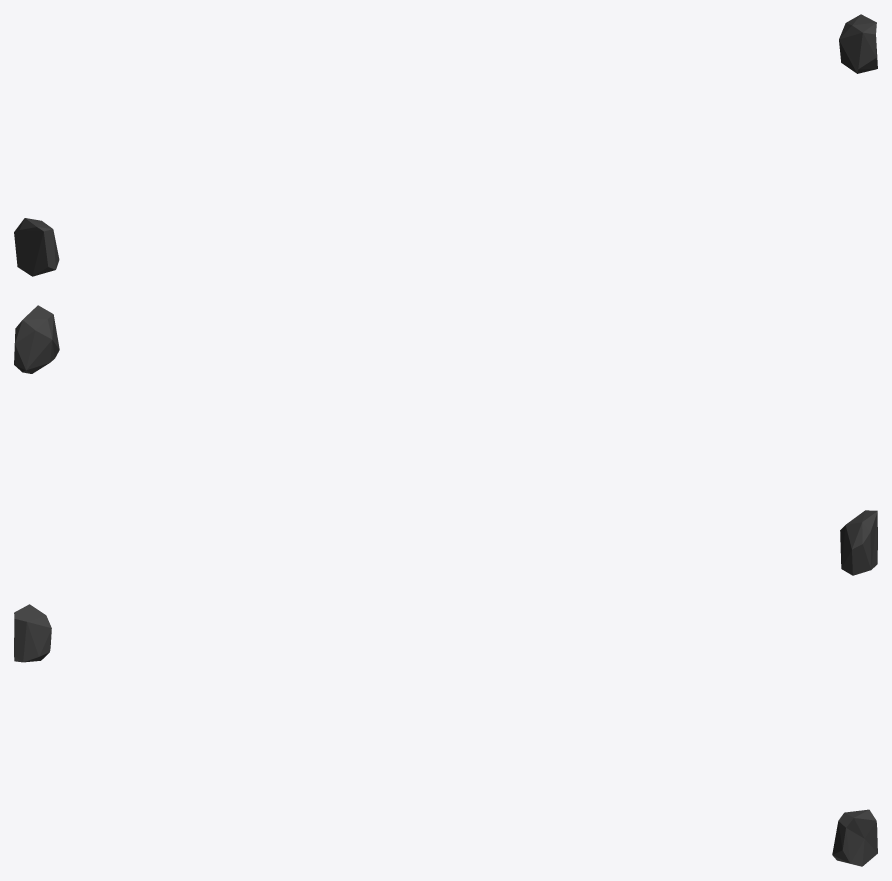
Rendered from Sesamoid_bone_carpals.glb.
3 renders of one model, top to bottom at view 1: azimuth 30°, elevation 25°; view 2: azimuth 150°, elevation 25°; view 3: azimuth 330°, elevation 25°, orthographic.
Visible parts, largest first — view 1: Sesamoid_bone_carpals; view 2: Sesamoid_bone_carpals; view 3: Sesamoid_bone_carpals.
Boxes of the visible parts, box(x1,y1,x2,y2) form: Sesamoid_bone_carpals: box(14, 14, 877, 276); Sesamoid_bone_carpals: box(14, 305, 877, 575); Sesamoid_bone_carpals: box(14, 604, 877, 866).
Bounding box in the file's own units: 0.00236 × 0.000139 × 0.000138.
1 material, 1 textured.
